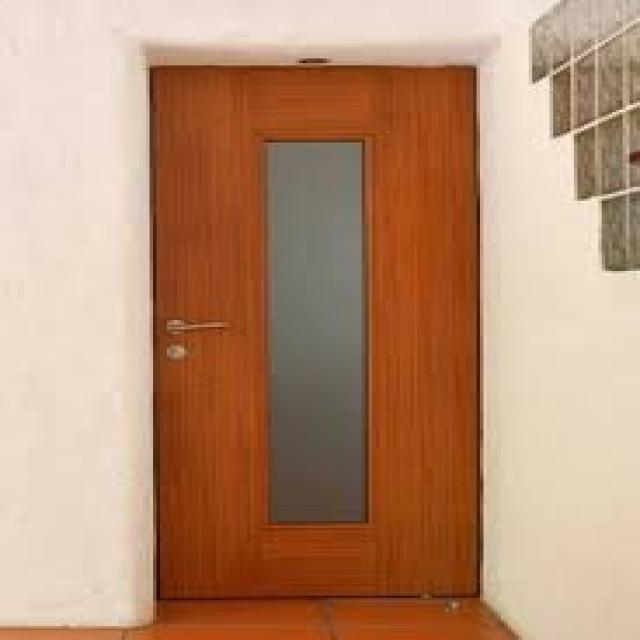door: (150, 63, 480, 600)
